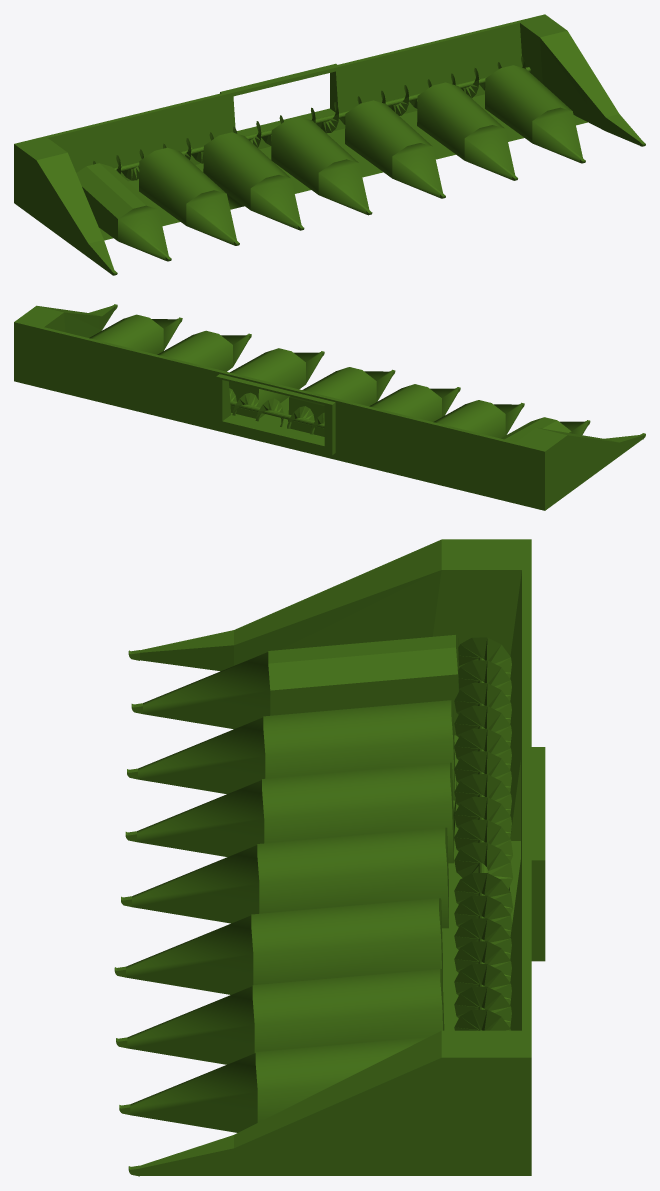
The model's file is Corn_Combine_Head.fbx.
3 renders of one model, top to bottom at view 1: azimuth 30°, elevation 25°; view 2: azimuth 150°, elevation 25°; view 3: azimuth 270°, elevation 25°, orthographic. The views are drawn at different scales.
Visible parts, largest first — view 1: John_Deere_Corn_Head1, Group1; view 2: John_Deere_Corn_Head1, Group1; view 3: John_Deere_Corn_Head1, Group1.
Boxes of the visible parts, left/top/right/bottom form: John_Deere_Corn_Head1: left=14, top=14, right=645, bottom=275; Group1: left=93, top=56, right=530, bottom=180; John_Deere_Corn_Head1: left=14, top=304, right=645, bottom=510; Group1: left=229, top=388, right=324, bottom=434; John_Deere_Corn_Head1: left=114, top=539, right=545, bottom=1176; Group1: left=454, top=637, right=513, bottom=1030.
Size of the model in its own units: 269 by 28.73 by 94.34.
